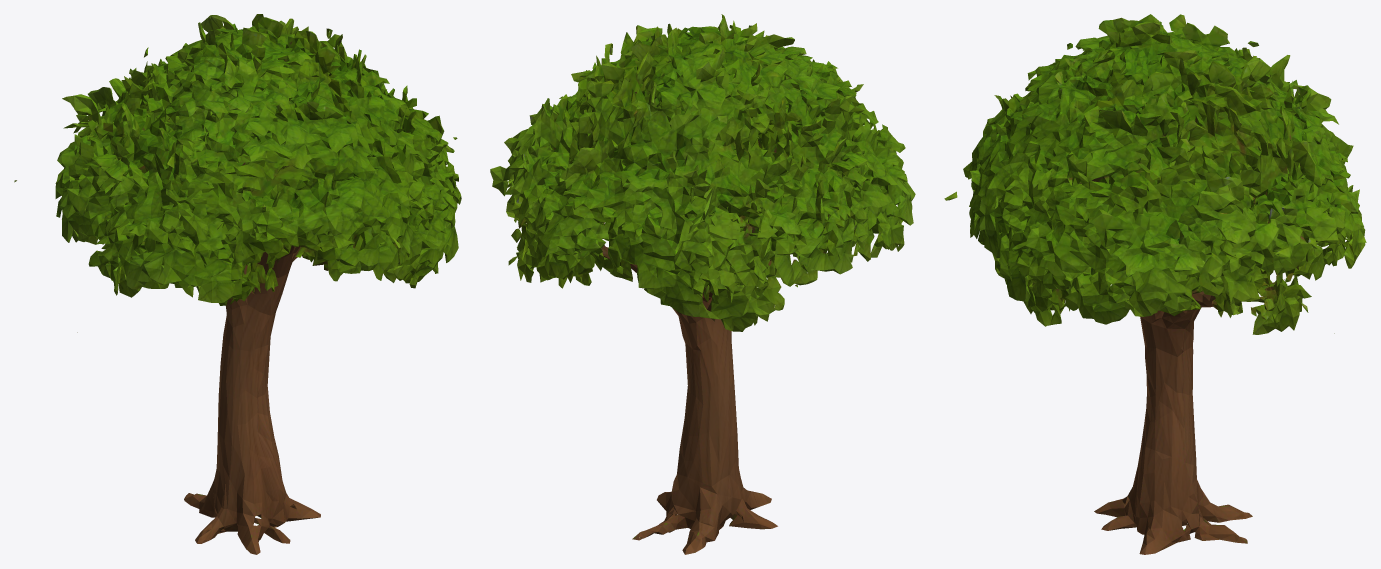
Rendered from tree.glb.
The picture shows the model from 3 angles, left to right: view 1: azimuth 30°, elevation 25°; view 2: azimuth 150°, elevation 25°; view 3: azimuth 270°, elevation 25°; orthographic projection.
Visible parts, largest first — view 1: textured_mesh.obj; view 2: textured_mesh.obj; view 3: textured_mesh.obj.
Boxes of the visible parts, x1,y1,x2,y2 form: textured_mesh.obj: (14,14,461,554); textured_mesh.obj: (490,14,915,554); textured_mesh.obj: (944,14,1366,554).
Bounding box in the file's own units: 1.49 × 1.98 × 1.51.
Materials: 1 (1 with a texture image).
